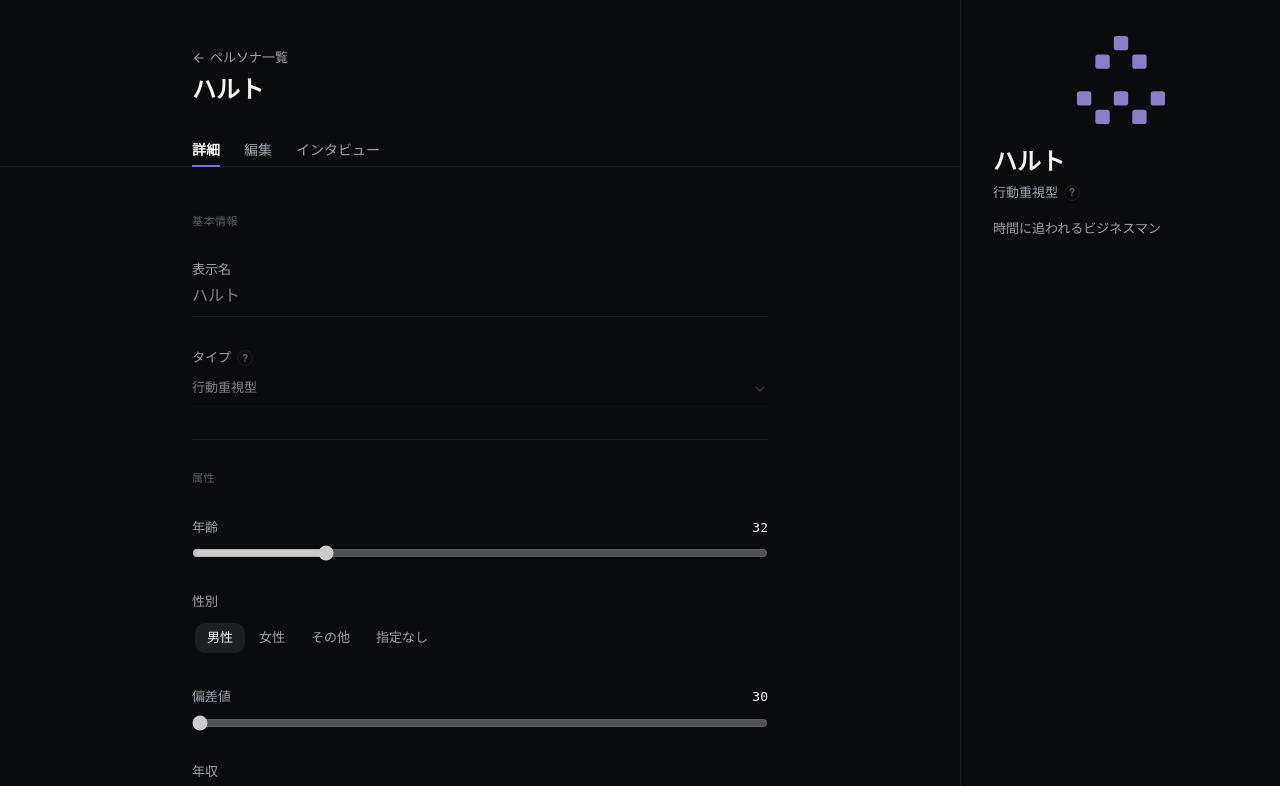
PersonaUnifiedPage › インタビュータブでメッセージ送信するとChatBubbleが表示される
Click the button "インタビュー". click: (338, 153)
box: x1=296 y1=140 x2=380 y2=166
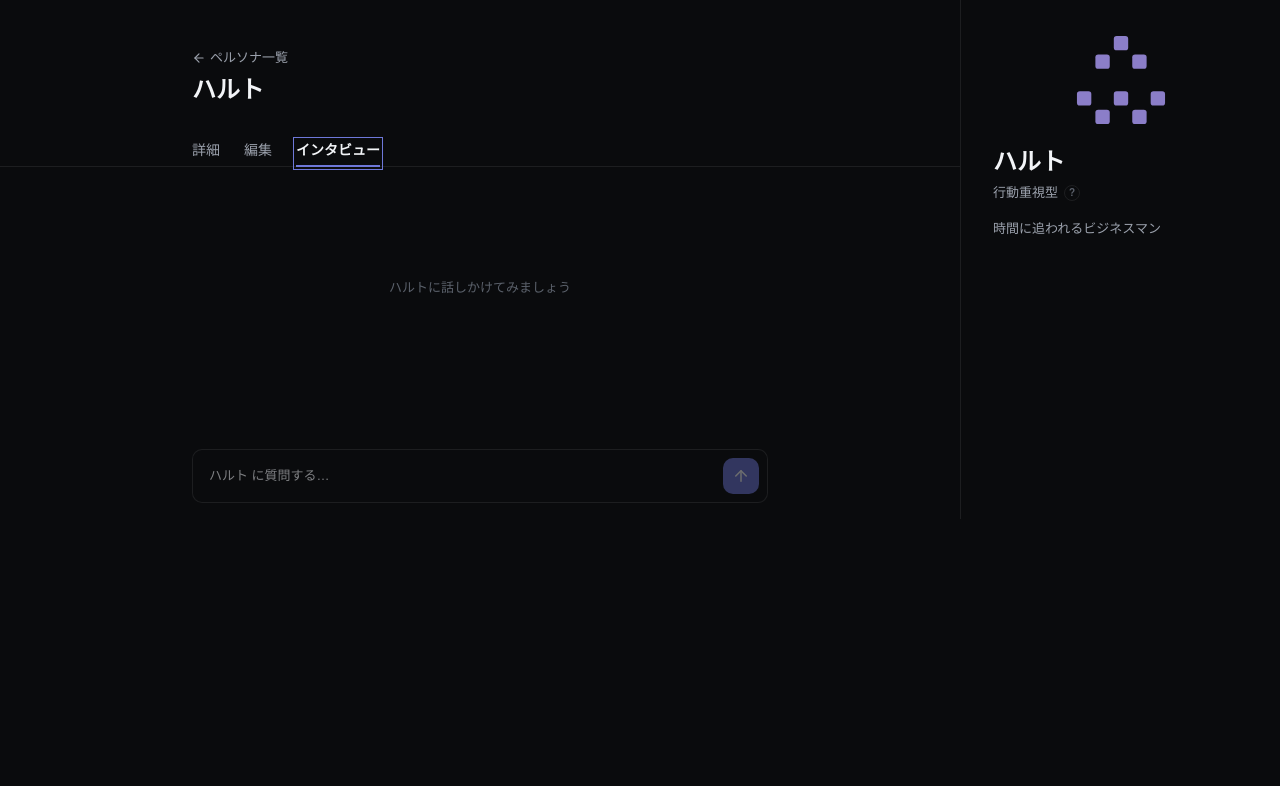
Type "テストメッセージ" into the field with placeholder "ハルト に質問する…". click: (460, 476)
box: x1=209 y1=467 x2=711 y2=485
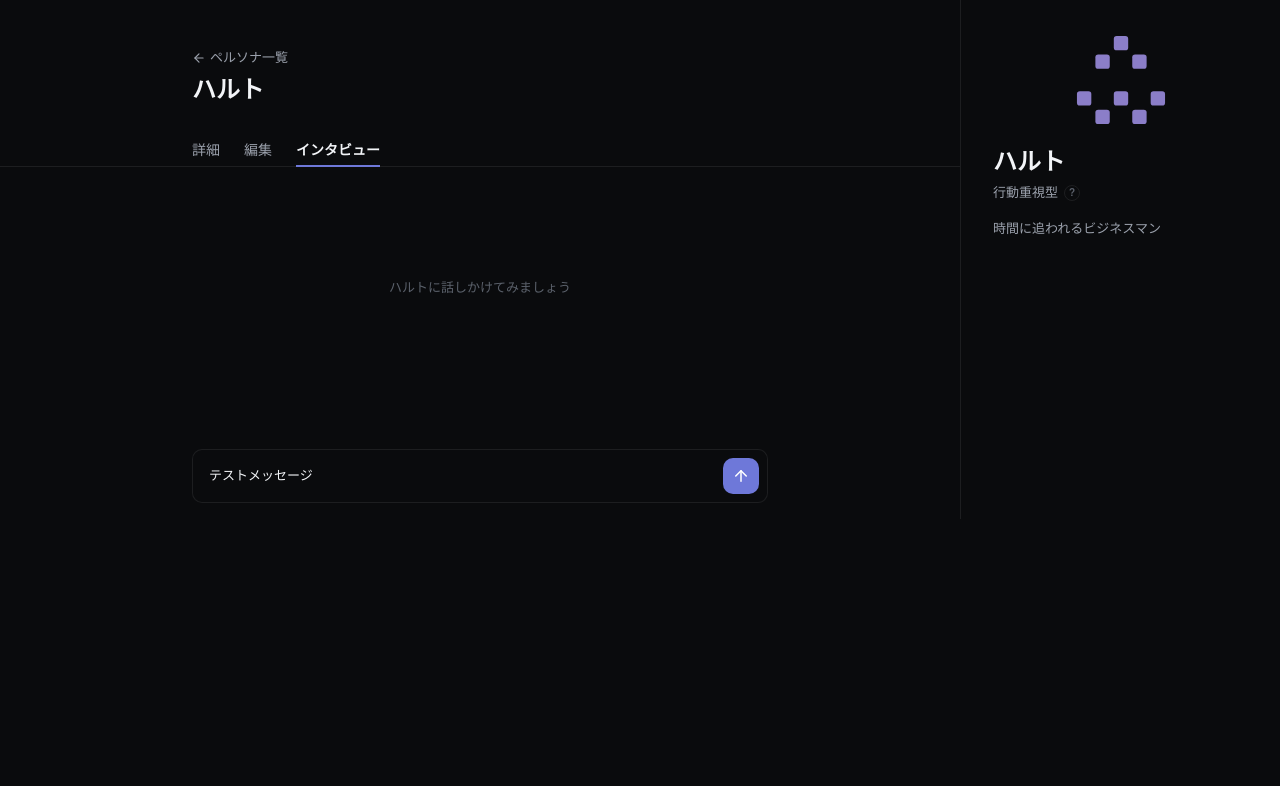
Click the 5th button. click: (741, 476)
box: x1=723 y1=458 x2=759 y2=494
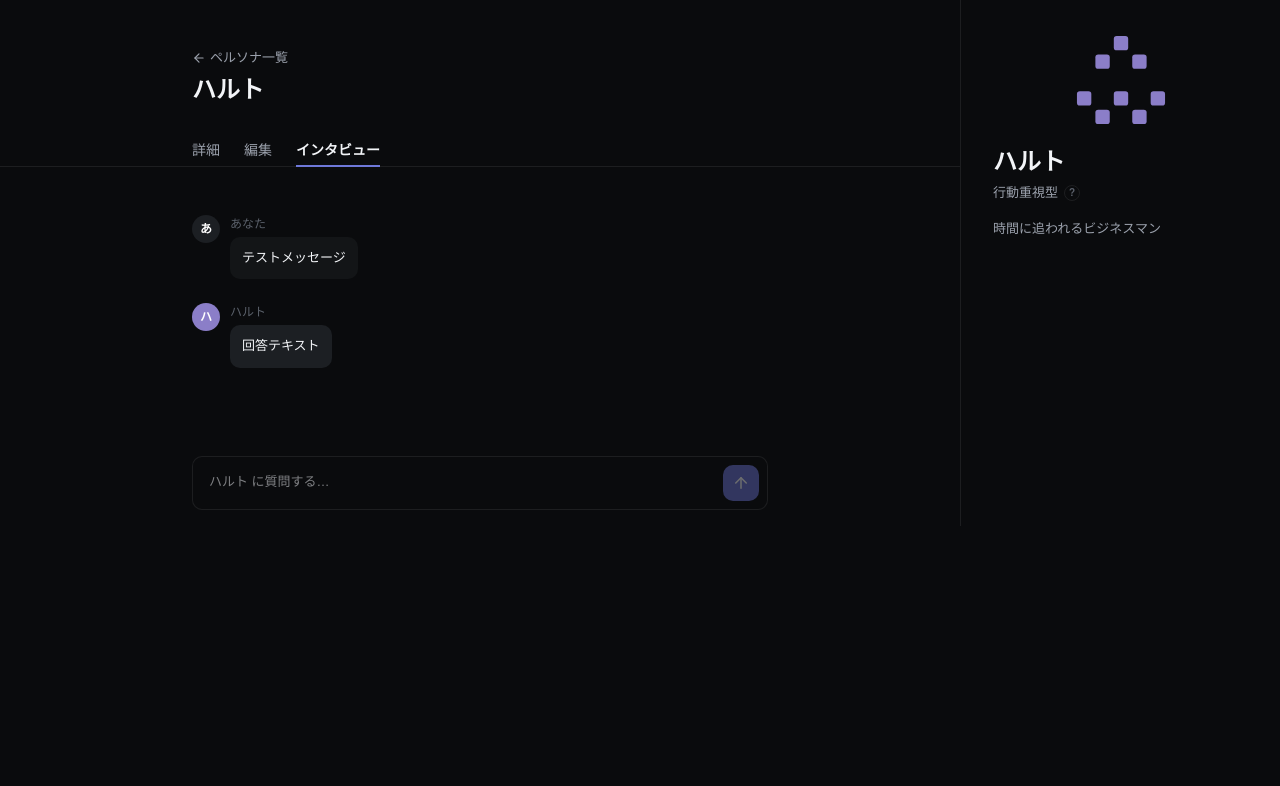
Expected: the text "テストメッセージ" is shown, x1=230 y1=236 x2=358 y2=279
Expected: the text "回答テキスト" is shown, x1=230 y1=325 x2=332 y2=368
